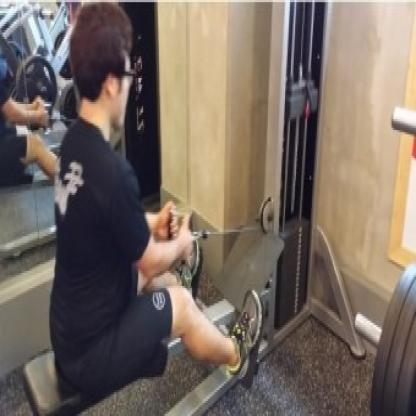Seated Cable Rows: (10, 0, 365, 416)
